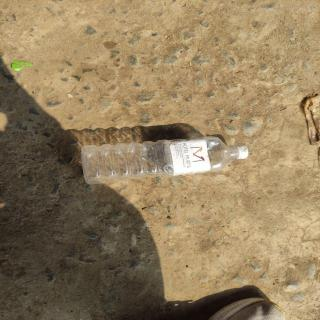Plastic-bottle: (77, 133, 257, 190)
